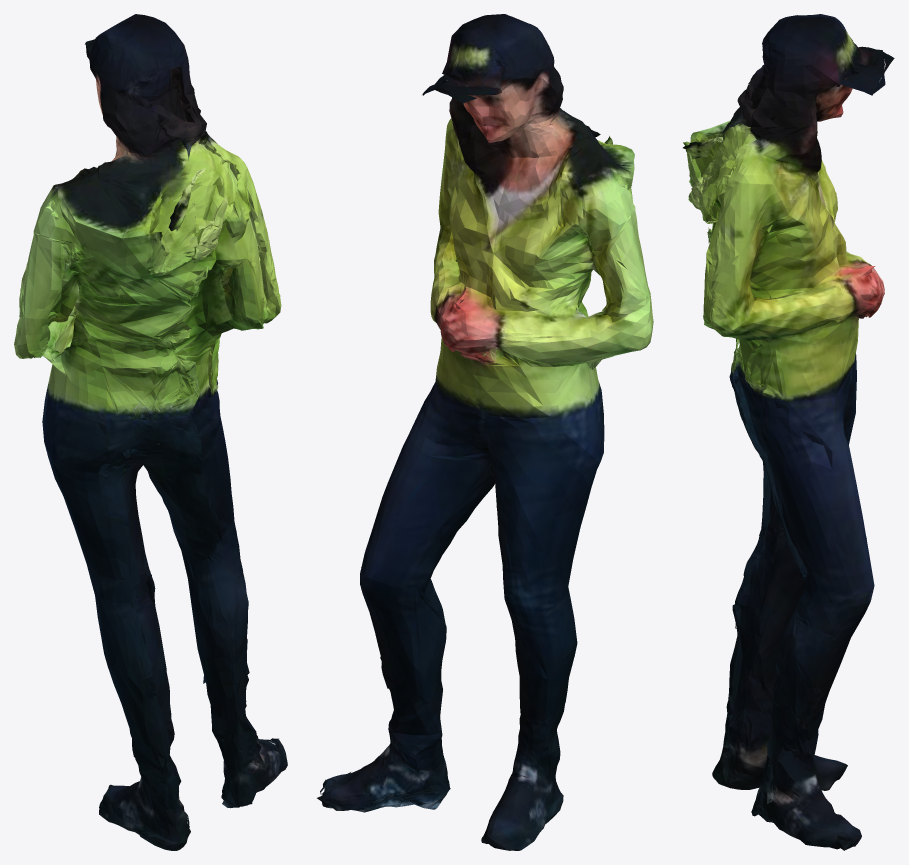
3 views of the same model, side by side, from view 1: azimuth 30°, elevation 25°; view 2: azimuth 150°, elevation 25°; view 3: azimuth 270°, elevation 25° (orthographic). The views are drawn at different scales.
Visible parts, largest first — view 1: dec_0015; view 2: dec_0015; view 3: dec_0015.
Boxes of the visible parts, left/top/right/bottom form: dec_0015: left=14, top=14, right=287, bottom=850; dec_0015: left=317, top=14, right=653, bottom=850; dec_0015: left=683, top=14, right=894, bottom=850.
Bounding box in the file's own units: 0.6822 × 1.76 × 0.4389.
Materials: 1 (1 with a texture image).
